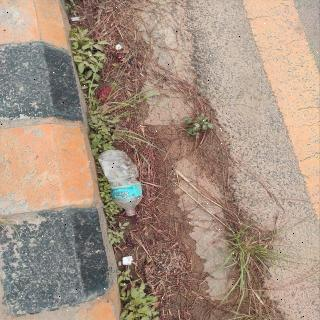Plastic-bottle: (96, 149, 147, 219)
